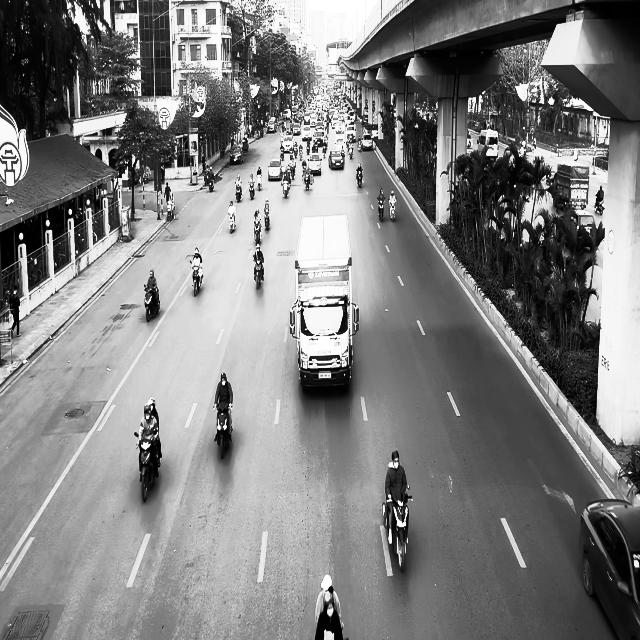car: (578, 498, 640, 639), (328, 148, 344, 170), (307, 152, 322, 175), (268, 158, 282, 180), (230, 145, 243, 164), (361, 134, 373, 150)
motorbike: (382, 485, 412, 572), (134, 431, 160, 502), (213, 403, 233, 459), (144, 284, 160, 322), (188, 259, 204, 296), (253, 257, 264, 289), (594, 193, 604, 215), (166, 199, 175, 221), (376, 197, 384, 221), (388, 198, 396, 222), (253, 222, 262, 242), (228, 210, 235, 233), (282, 178, 290, 198), (303, 170, 310, 190), (235, 183, 242, 202), (356, 167, 362, 187), (264, 213, 270, 229), (256, 174, 262, 190), (249, 182, 254, 200)
truck: (289, 214, 359, 392)
